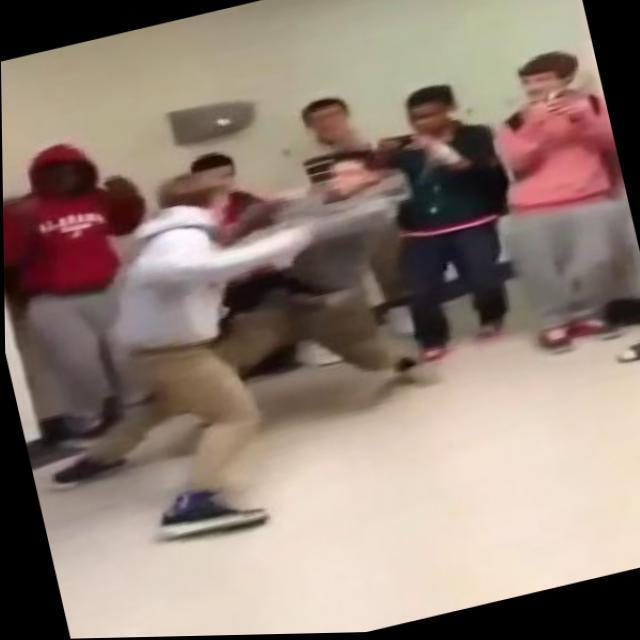fight: (73, 130, 469, 552)
